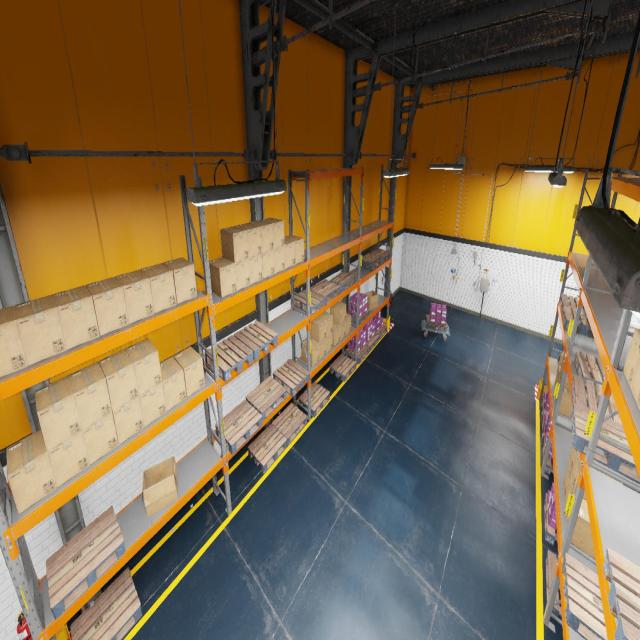box: (6, 429, 57, 514), (15, 294, 66, 366), (34, 375, 82, 451), (52, 285, 100, 350), (68, 362, 112, 430), (98, 349, 139, 412), (85, 277, 128, 336), (572, 450, 622, 500), (47, 431, 90, 488), (142, 456, 178, 517), (114, 270, 154, 324), (125, 338, 162, 395), (0, 305, 28, 378), (566, 493, 596, 559), (82, 412, 119, 464), (140, 263, 177, 314), (162, 257, 197, 304), (173, 346, 205, 397), (112, 396, 144, 444), (160, 357, 186, 411), (139, 382, 166, 427), (209, 257, 237, 298), (220, 226, 249, 262), (623, 328, 640, 388), (234, 223, 262, 258), (248, 220, 274, 253), (260, 218, 284, 248), (284, 235, 304, 264), (301, 338, 319, 367), (630, 358, 640, 409), (558, 383, 572, 418), (235, 258, 250, 290), (249, 253, 263, 284), (310, 316, 326, 342), (330, 301, 346, 324), (565, 474, 573, 518), (319, 311, 332, 337), (262, 250, 274, 278), (563, 458, 571, 499), (556, 374, 568, 401), (284, 239, 295, 268), (274, 246, 285, 274), (560, 353, 569, 385), (364, 290, 378, 310), (332, 320, 346, 340), (569, 445, 577, 474), (332, 321, 340, 346), (557, 351, 564, 373), (320, 337, 326, 360), (554, 366, 560, 387), (346, 313, 351, 335), (327, 332, 332, 353)
pallets: (46, 506, 125, 620), (571, 404, 640, 484), (70, 567, 142, 640), (562, 553, 607, 639), (602, 548, 640, 640), (571, 374, 622, 424), (215, 400, 262, 454), (204, 334, 253, 382), (248, 424, 287, 473), (246, 376, 286, 421), (234, 321, 278, 360), (272, 403, 306, 445), (273, 358, 309, 396), (574, 351, 605, 389), (546, 550, 562, 621), (298, 382, 329, 417), (294, 288, 327, 314), (562, 306, 591, 335), (310, 279, 341, 302), (330, 354, 356, 381), (544, 493, 557, 545), (560, 293, 585, 313), (330, 272, 355, 292), (345, 344, 369, 364), (542, 437, 553, 475), (426, 314, 447, 332), (358, 254, 382, 269), (346, 309, 369, 324), (368, 248, 391, 262), (364, 334, 379, 351), (374, 324, 387, 340), (541, 395, 548, 420), (542, 414, 545, 443)
